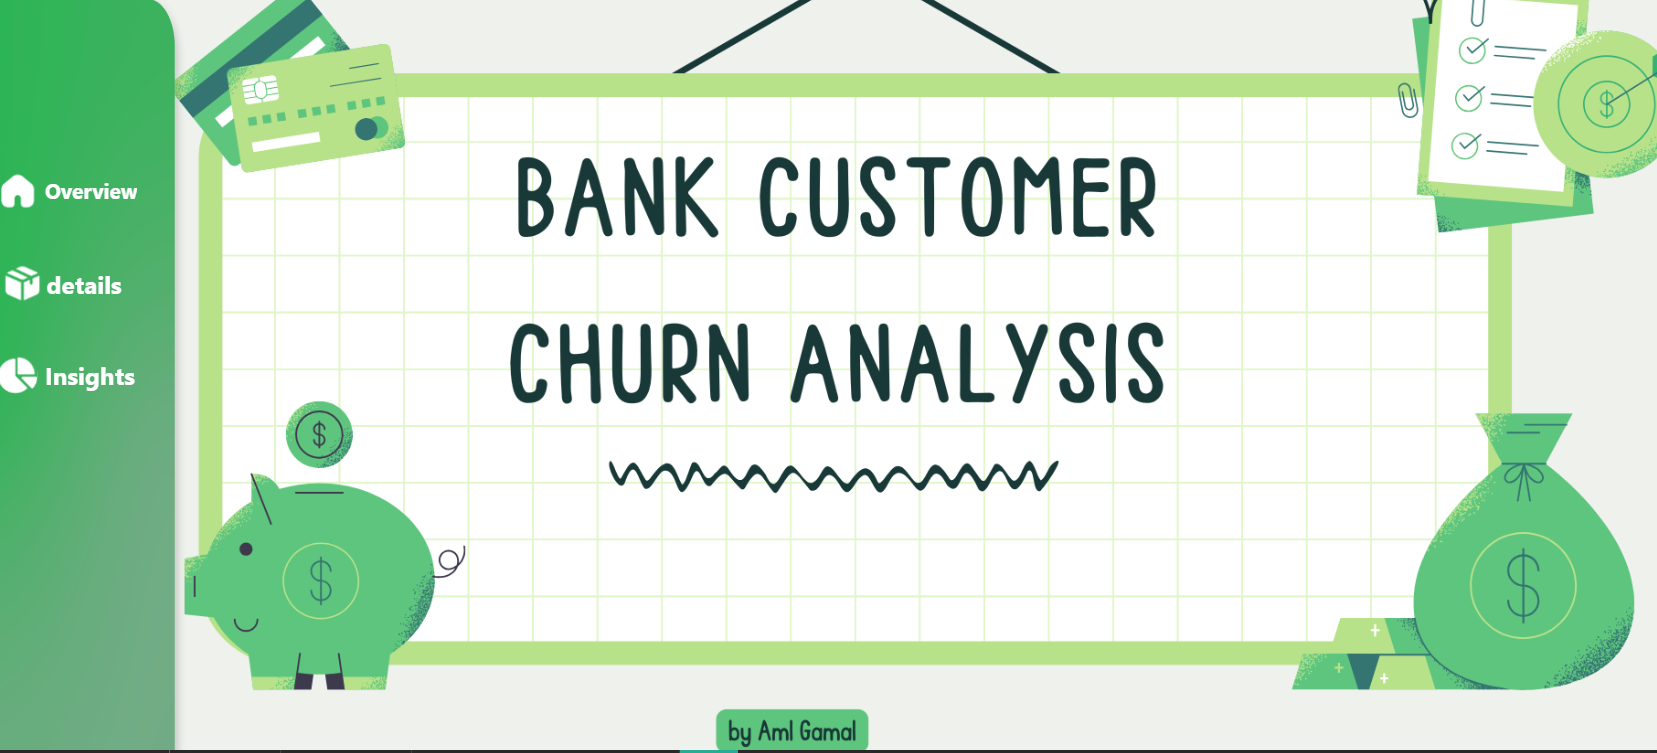

The page's visual inventory and layout, read from the dashboard file:
{"tool":"powerbi","page":{"name":"Home","canvas":[1280,720],"ordinal":0},"visuals":[{"type":"image","box":[0,0,148.6,689.8],"z":0},{"type":"actionButton","box":[0,120.4,129.8,54.7],"z":1000},{"type":"actionButton","box":[1.6,189.3,129.8,59.4],"z":2000},{"type":"actionButton","box":[0,267.5,129.8,43.8],"z":3000}]}

Visuals, with their boxes on the page's 1280x720 design canvas (x1, y1, x2, y2). These are canvas units, not pixel positions in the 1657x753 screenshot, which may show the page scaled, cropped or inside an application window:
image: 0/0/149/690
actionButton: 0/120/130/175
actionButton: 2/189/131/249
actionButton: 0/268/130/311
